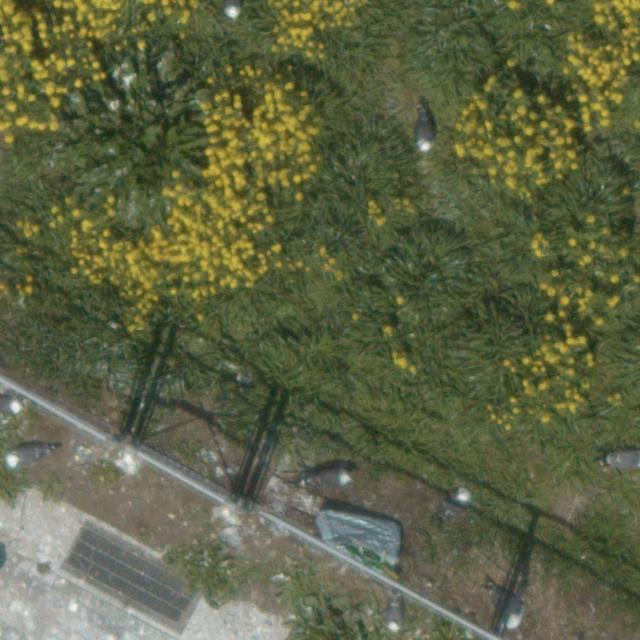umineko: (493, 582, 527, 631), (416, 116, 432, 150), (608, 450, 640, 467), (9, 448, 37, 466), (387, 602, 402, 630), (449, 490, 468, 508), (328, 473, 351, 487), (1, 399, 21, 415), (224, 0, 240, 16)
